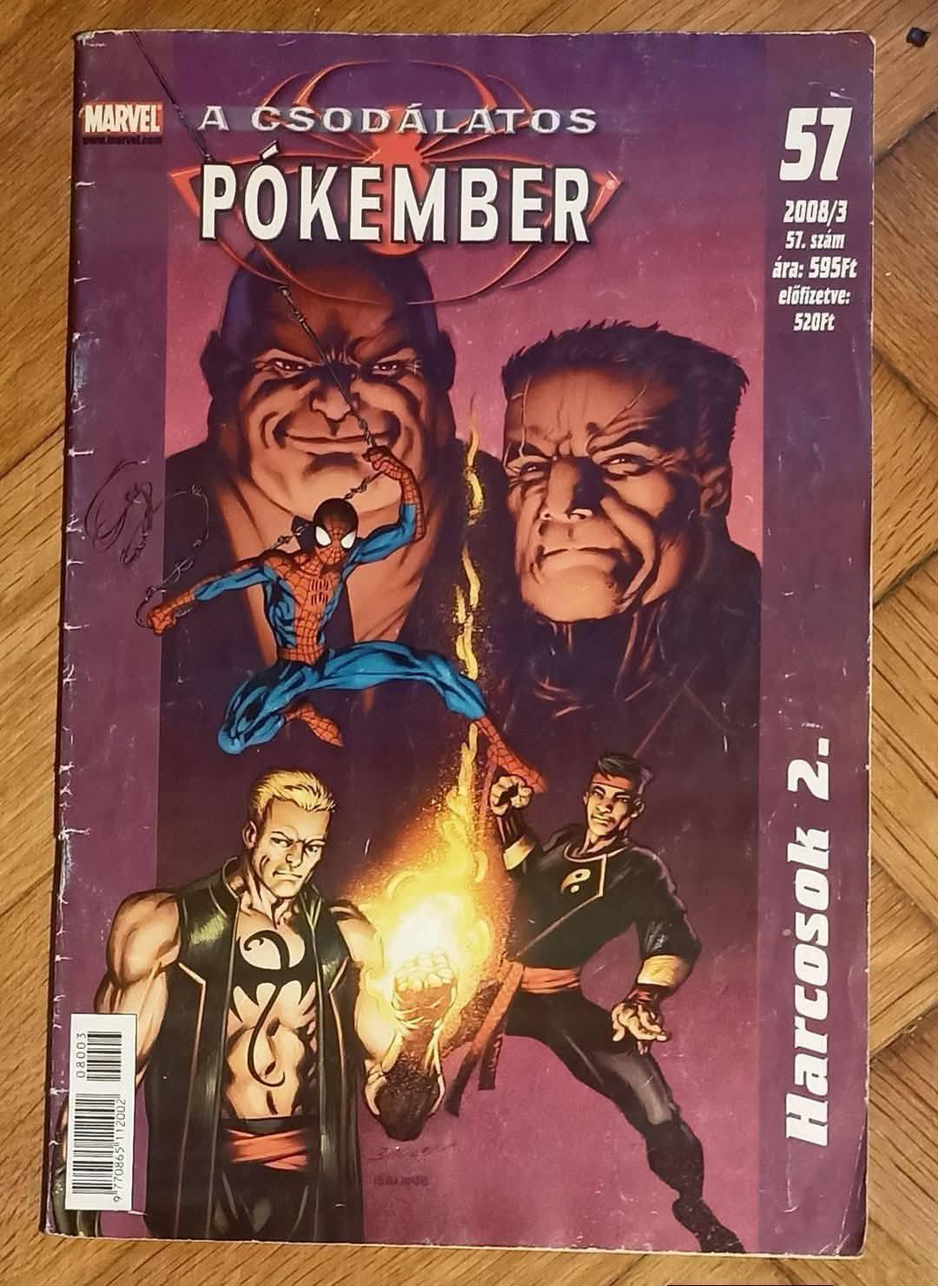comic: (43, 12, 897, 1256)
